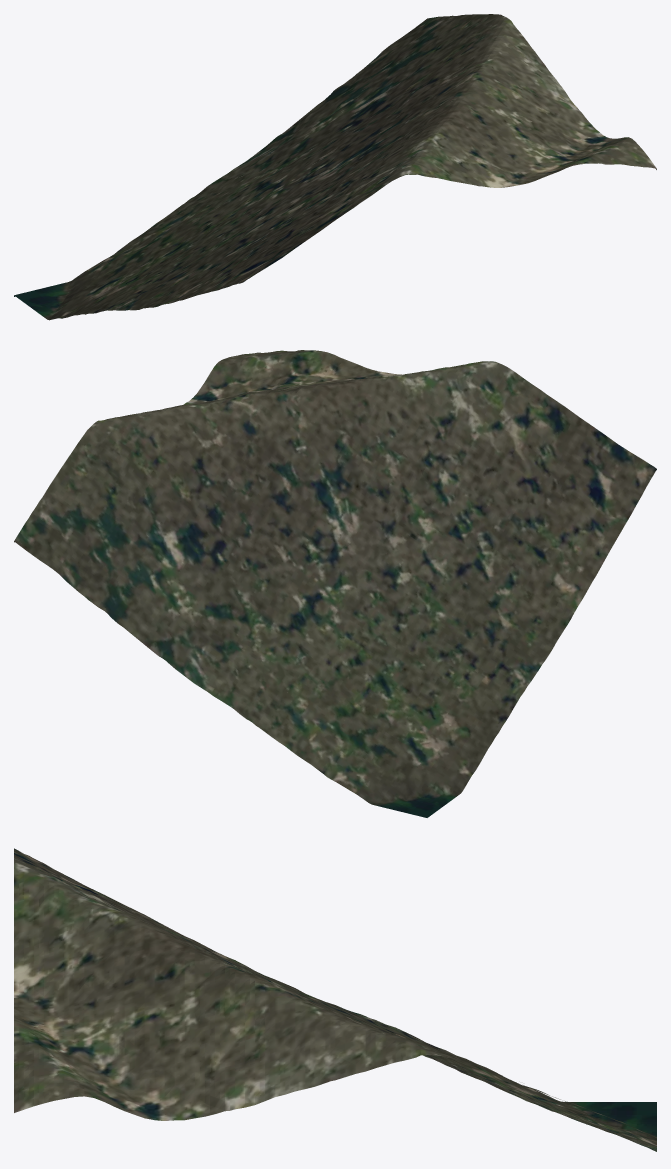
3 views of the same model, one above another, from view 1: azimuth 30°, elevation 25°; view 2: azimuth 150°, elevation 25°; view 3: azimuth 270°, elevation 25° (orthographic). The views are drawn at different scales.
Bounding box in the file's own units: 250 × 145 × 241.
Materials: 1 (1 with a texture image).
